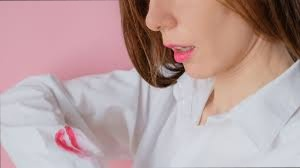lipstick: (47, 121, 82, 158)
